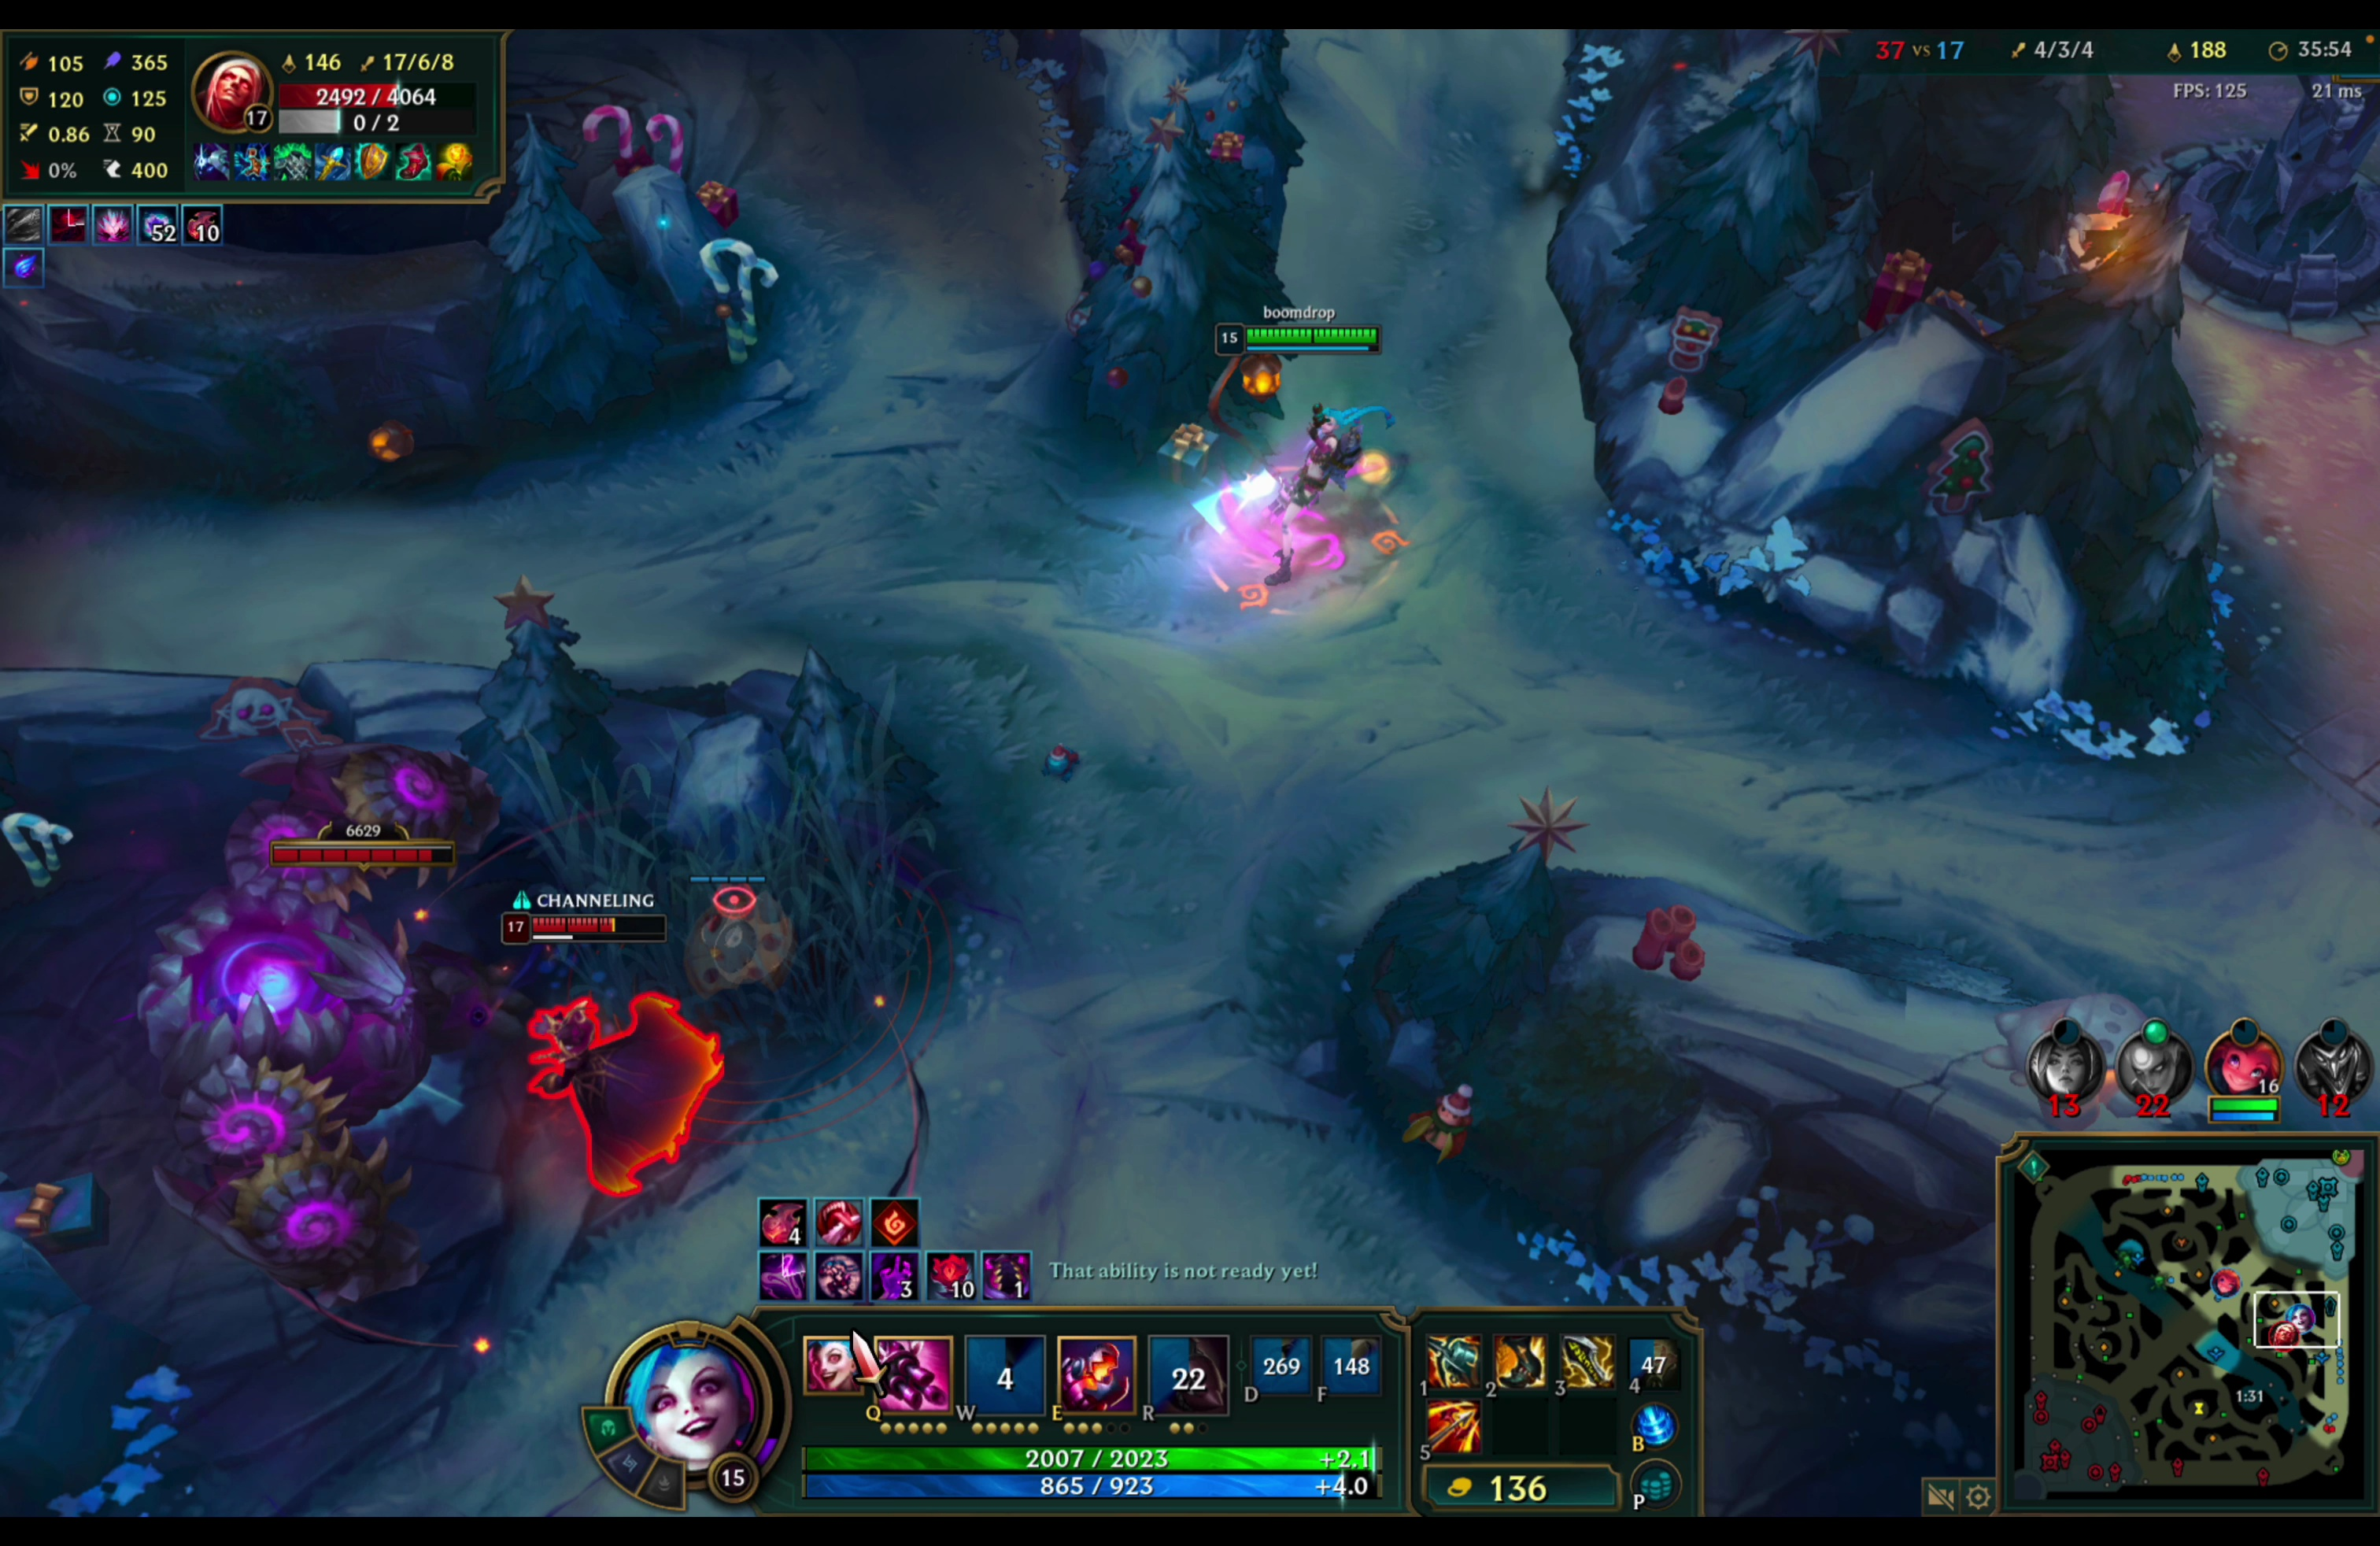JINX_W_PROJECTILE: (1174, 293, 1433, 652)
